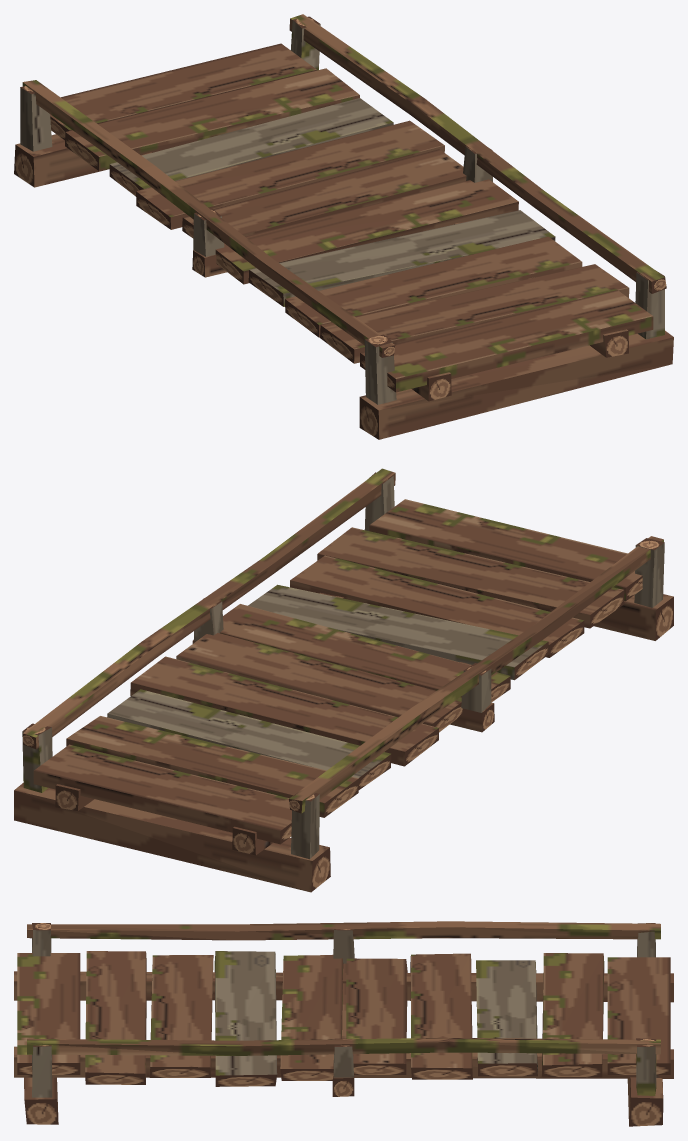
Rendered from SM_ST08_Bridge.fbx.
3 renders of one model, top to bottom at view 1: azimuth 30°, elevation 25°; view 2: azimuth 150°, elevation 25°; view 3: azimuth 270°, elevation 25°, orthographic. The views are drawn at different scales.
Visible parts, largest first — view 1: ST08_Bridge; view 2: ST08_Bridge; view 3: ST08_Bridge.
Boxes of the visible parts, left/top/right/bottom form: ST08_Bridge: left=14, top=14, right=673, bottom=439; ST08_Bridge: left=14, top=468, right=673, bottom=892; ST08_Bridge: left=14, top=921, right=673, bottom=1126.
Bounding box in the file's own units: 1.84 × 0.5539 × 4.04.
